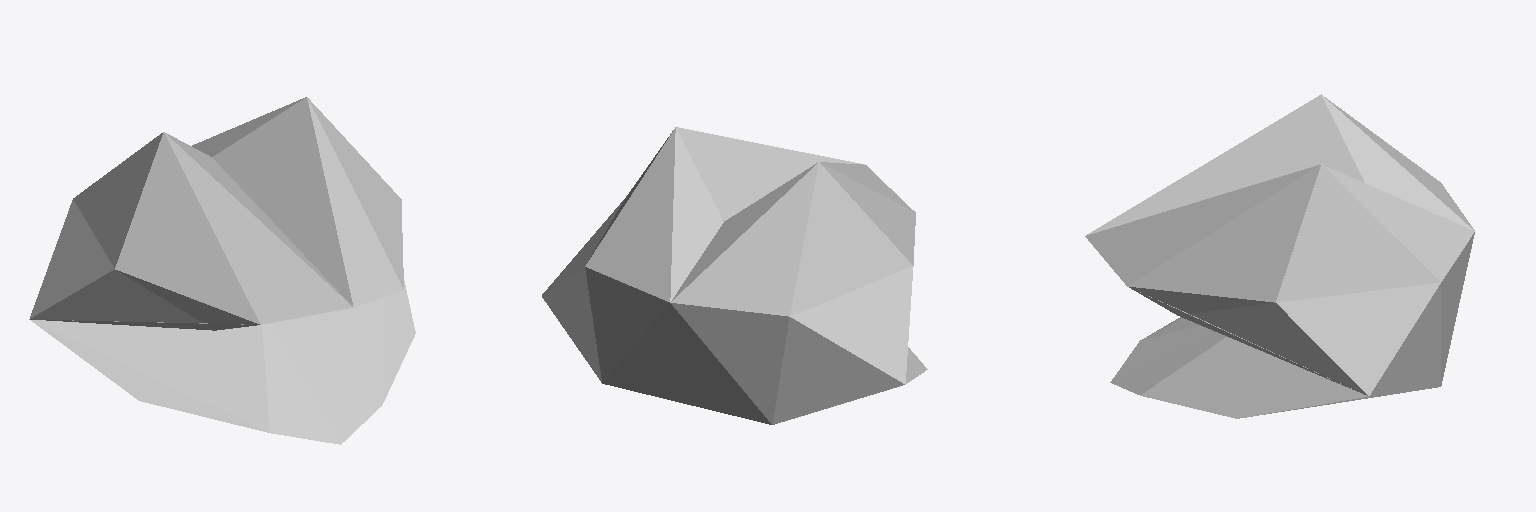
File: smallenemy.obj
The picture shows the model from 3 angles: view 1: azimuth 30°, elevation 25°; view 2: azimuth 150°, elevation 25°; view 3: azimuth 270°, elevation 25°; orthographic projection.
Bounding box in the file's own units: 2.54 × 1.69 × 2.36.